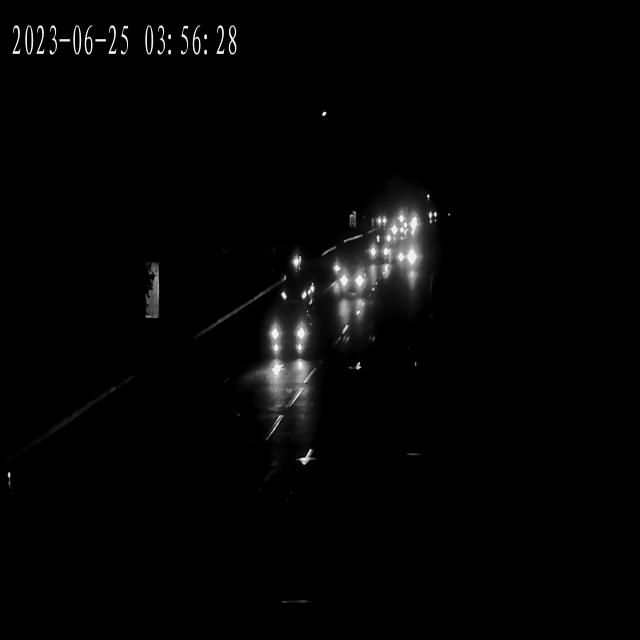Car: (265, 308, 313, 360), (335, 260, 371, 297), (280, 276, 313, 309), (365, 240, 391, 270), (366, 234, 391, 265), (392, 243, 420, 270), (366, 230, 394, 254), (370, 229, 395, 251), (391, 219, 416, 239), (387, 223, 411, 241), (385, 220, 409, 238), (372, 213, 389, 227), (425, 210, 440, 224)
